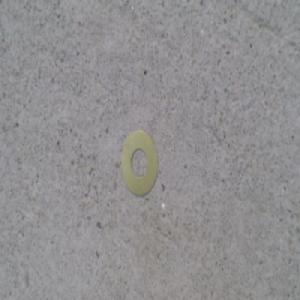Washer: (122, 129, 159, 197)
